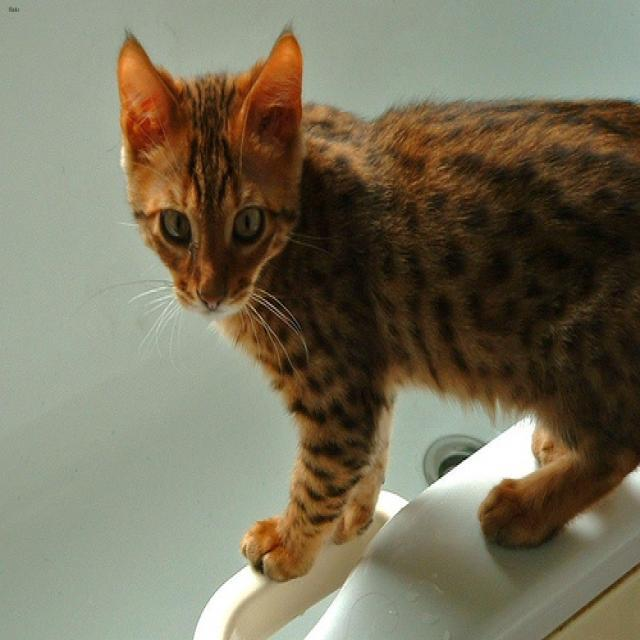Bengal: (115, 11, 301, 332)
